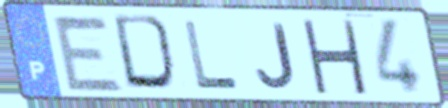4: (374, 15, 424, 101)
D: (110, 12, 183, 95)
E: (48, 12, 127, 94)
H: (297, 17, 370, 97)
J: (254, 20, 299, 91)
L: (180, 19, 242, 91)
